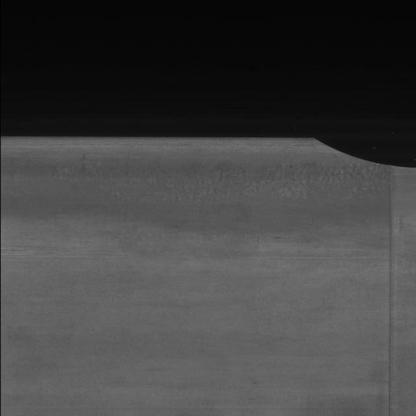welding_line: (374, 158, 405, 416)
